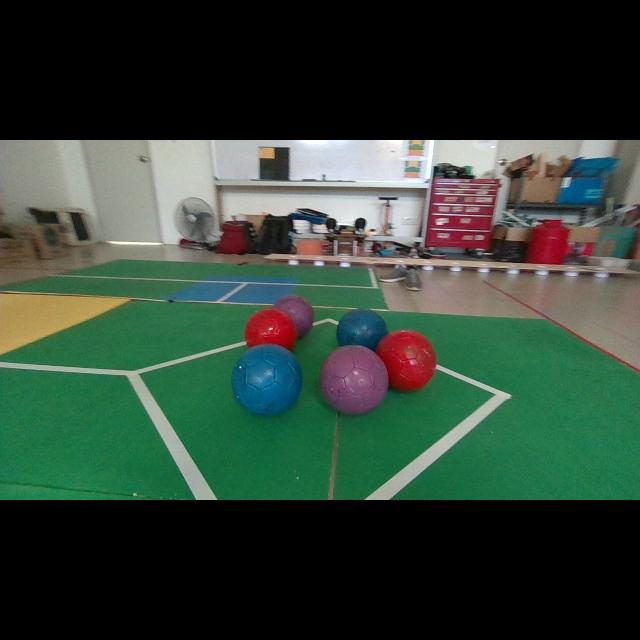B: (231, 344, 302, 415), (336, 309, 388, 350)
P: (319, 346, 389, 414), (274, 294, 314, 337)
R: (375, 330, 436, 391), (245, 308, 298, 350)
